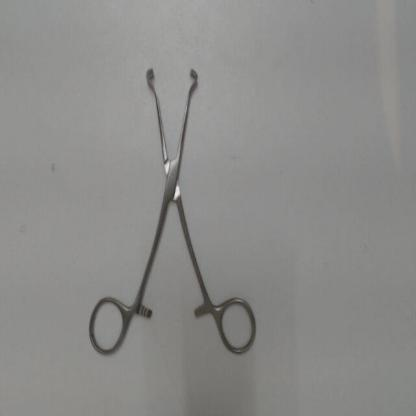Babcock Tissue Forceps: (81, 63, 263, 360)
